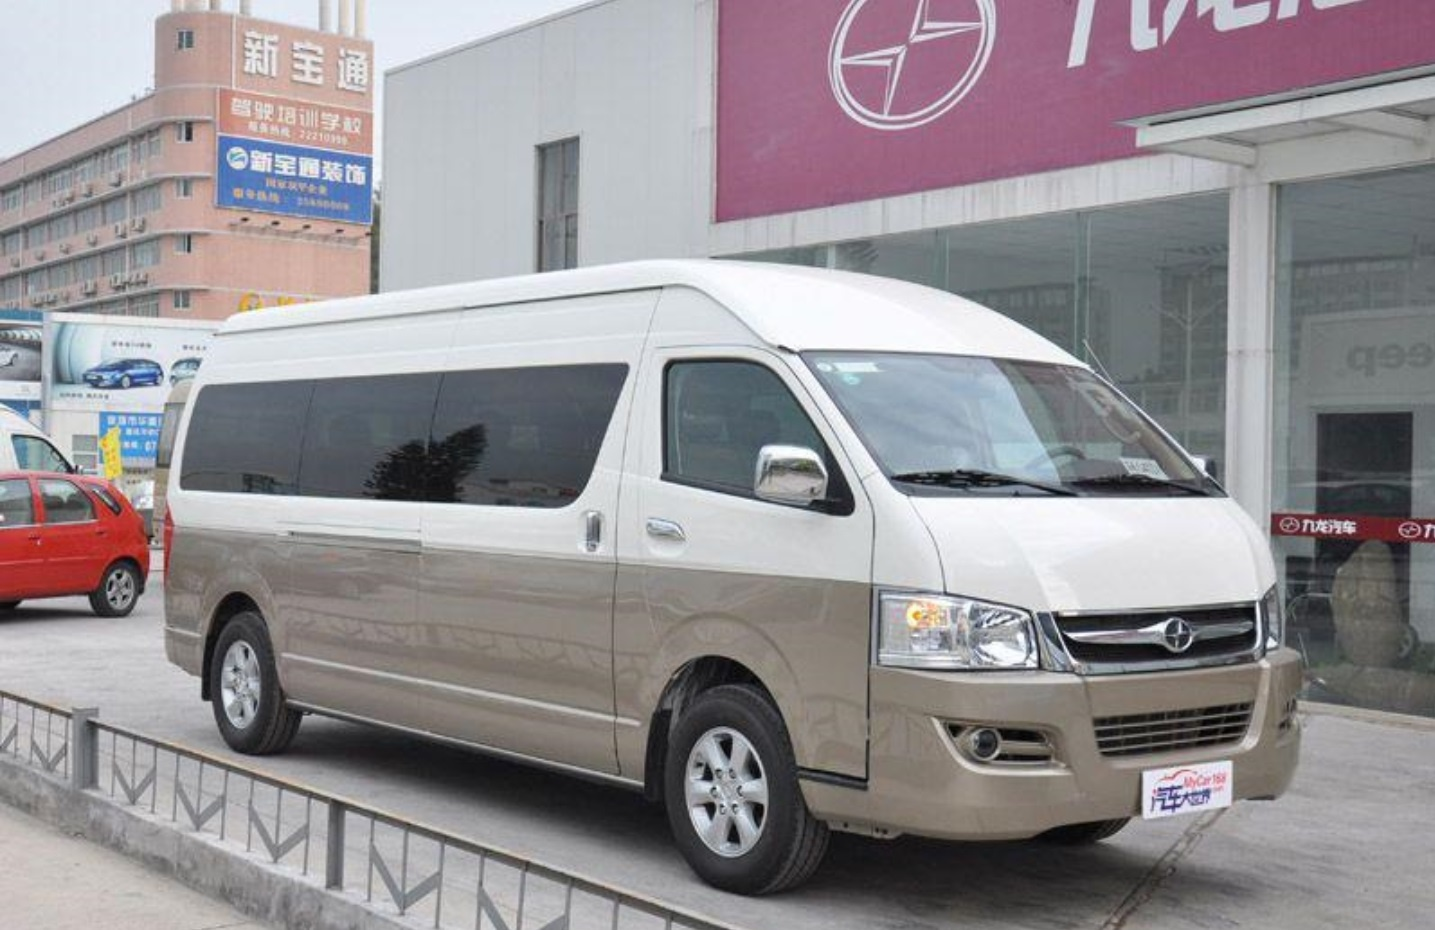minibus: (147, 276, 1321, 878)
